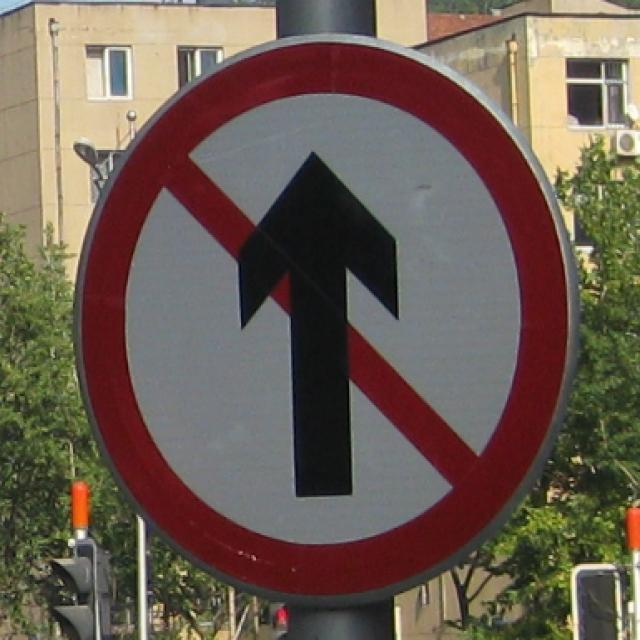Not that Direction: (76, 38, 582, 607)
